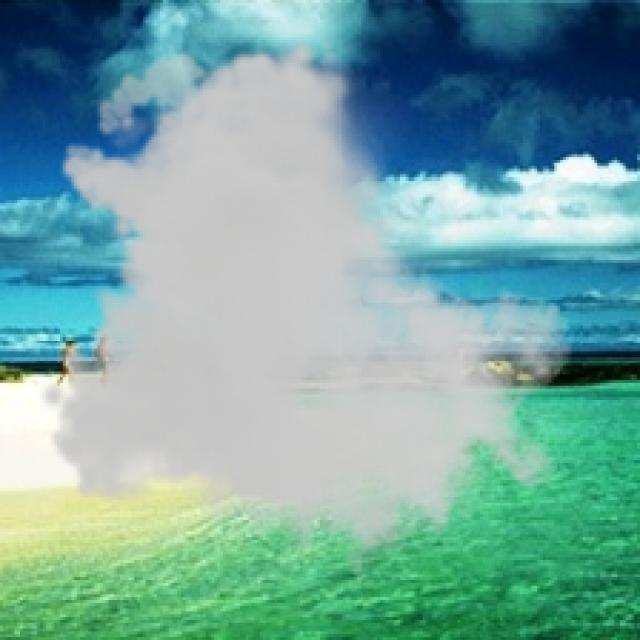smoke: (37, 37, 574, 600)
